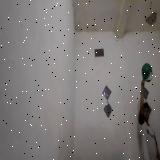Helmet: (142, 61, 153, 81)
